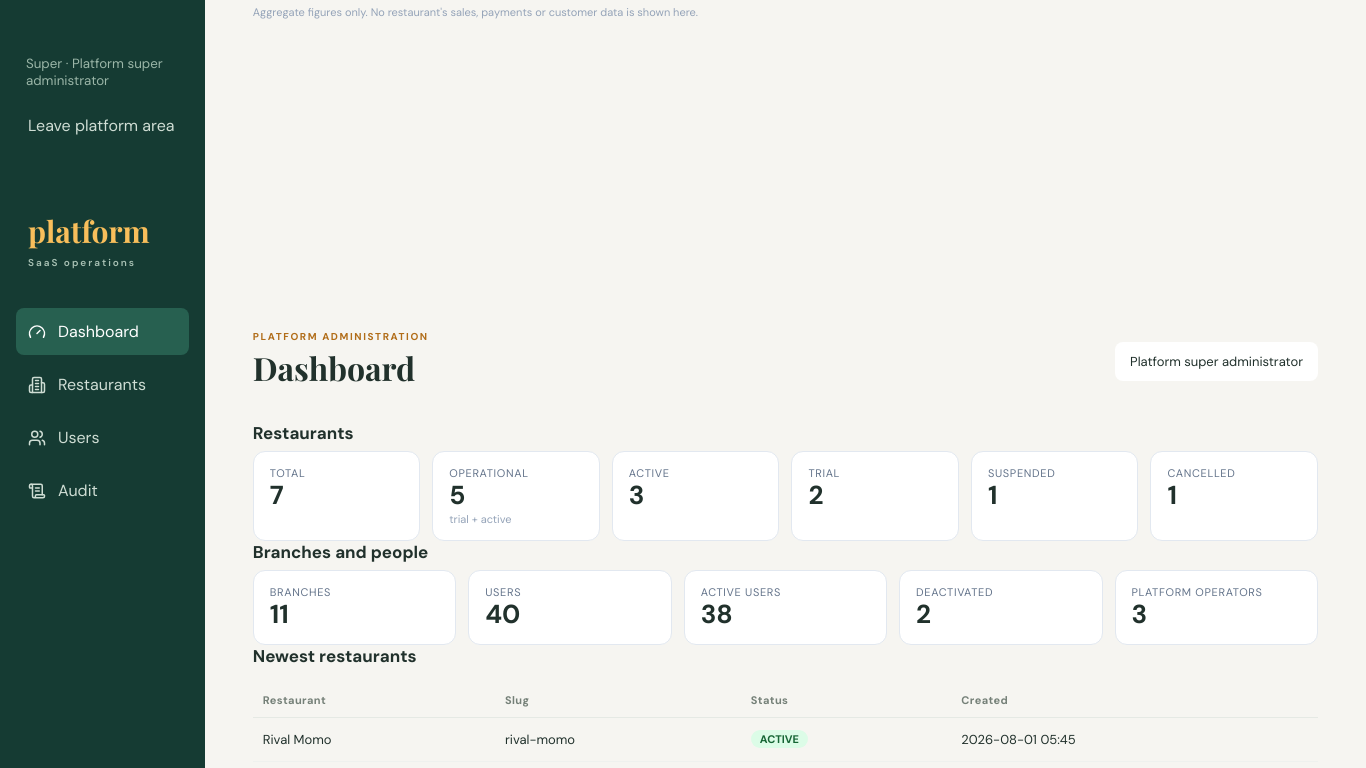
Test case: P2B UI · restaurants › lists restaurants with status, branch and user counts
This screenshot has width=1366, height=768.
(page scrolled)
Click the button "Restaurants": (102, 384) [16, 361, 189, 408]
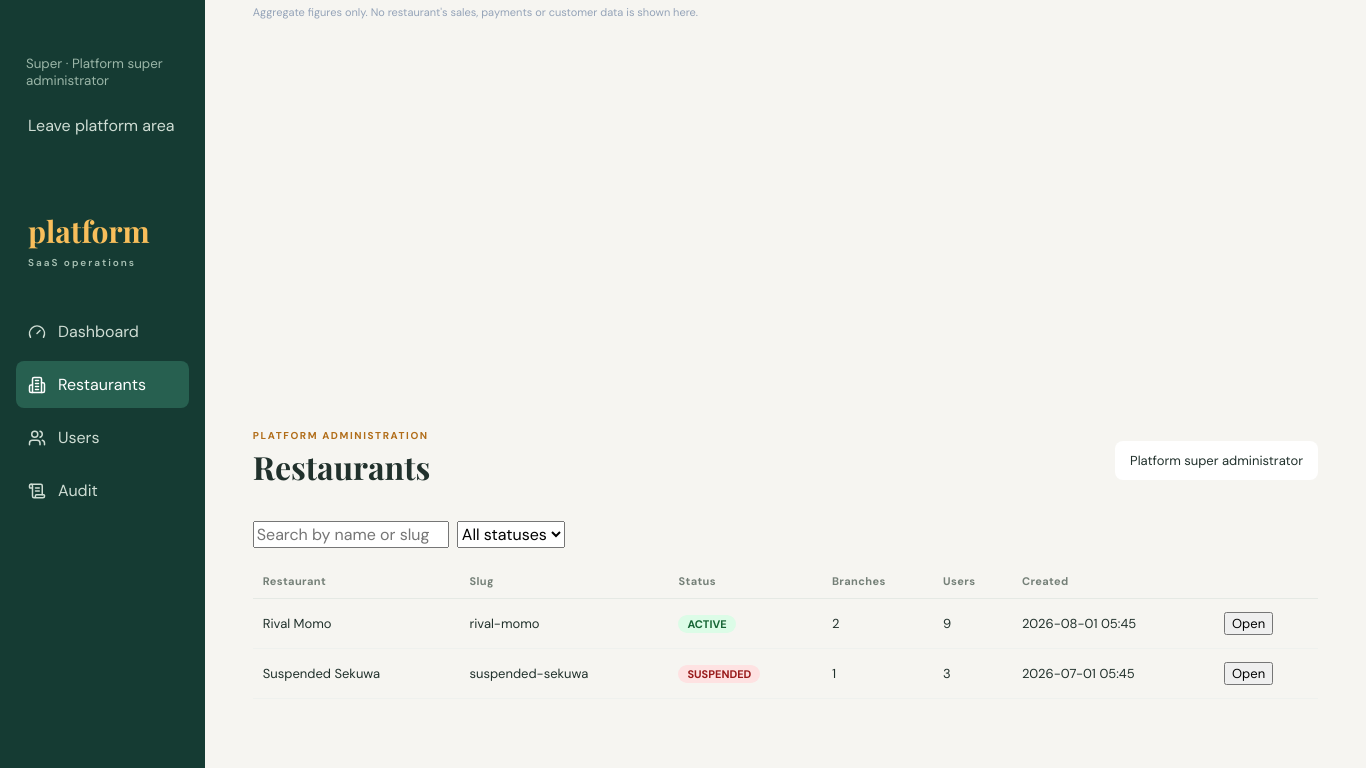
Now the text "Suspended Sekuwa" is shown, box [253, 648, 460, 698]
